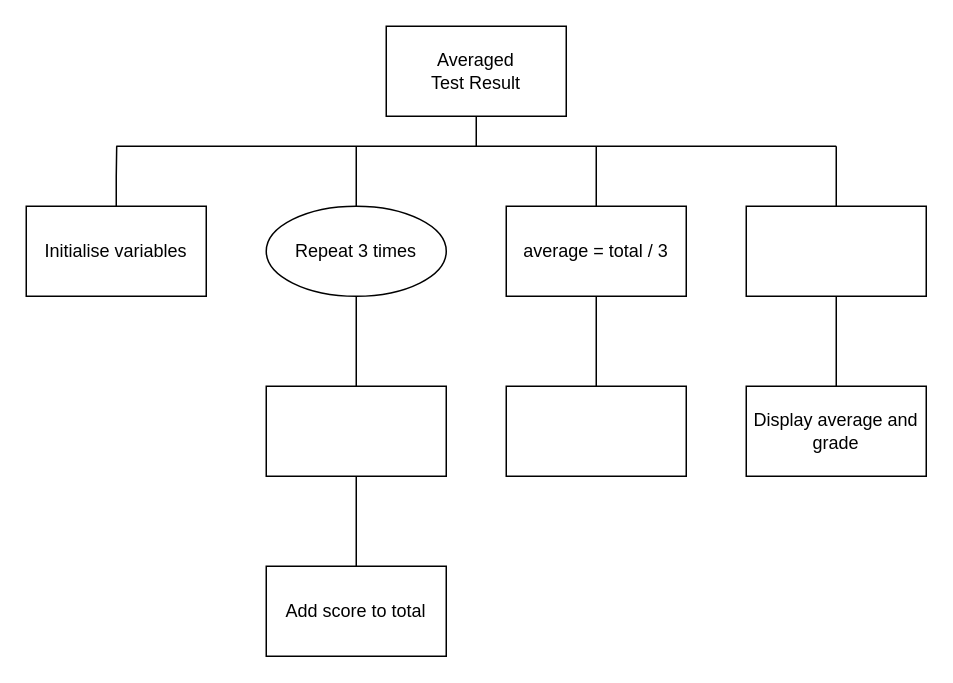
Image size: 953x683. Some labels were removed from this diagram. The shapes that lost their labels are listed below. From the top down, each one's box as (x1, y1, x2, y2) in pixels, then its label:
(745, 205, 926, 296): Calculate grade
(265, 385, 446, 476): Get valid score
(505, 385, 686, 476): Round average to 0 decimal places
